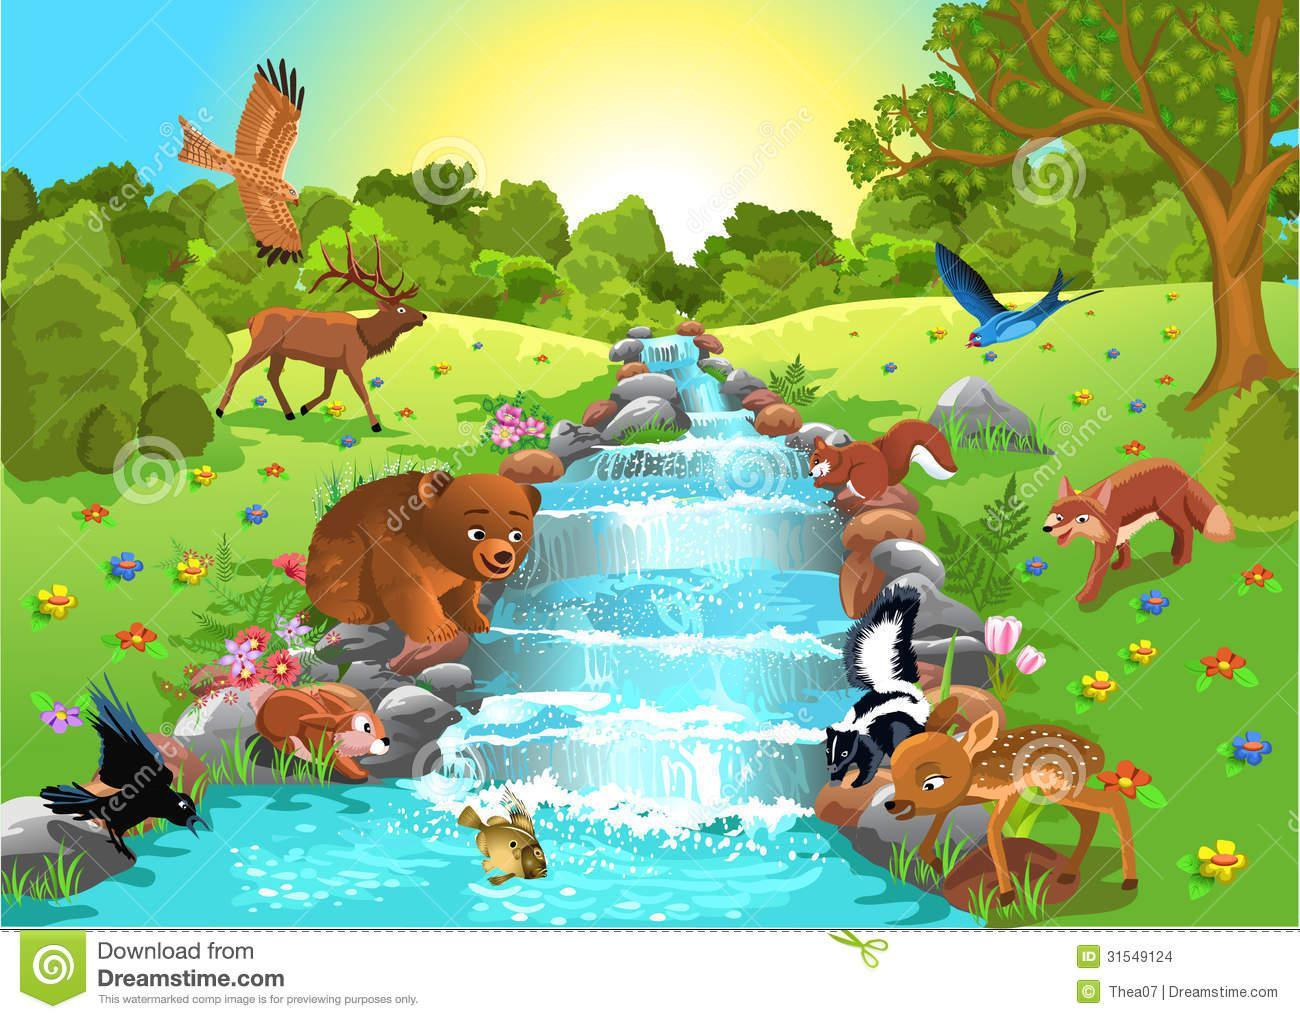bird: (30, 674, 211, 869), (165, 52, 316, 268), (928, 237, 1103, 349)
